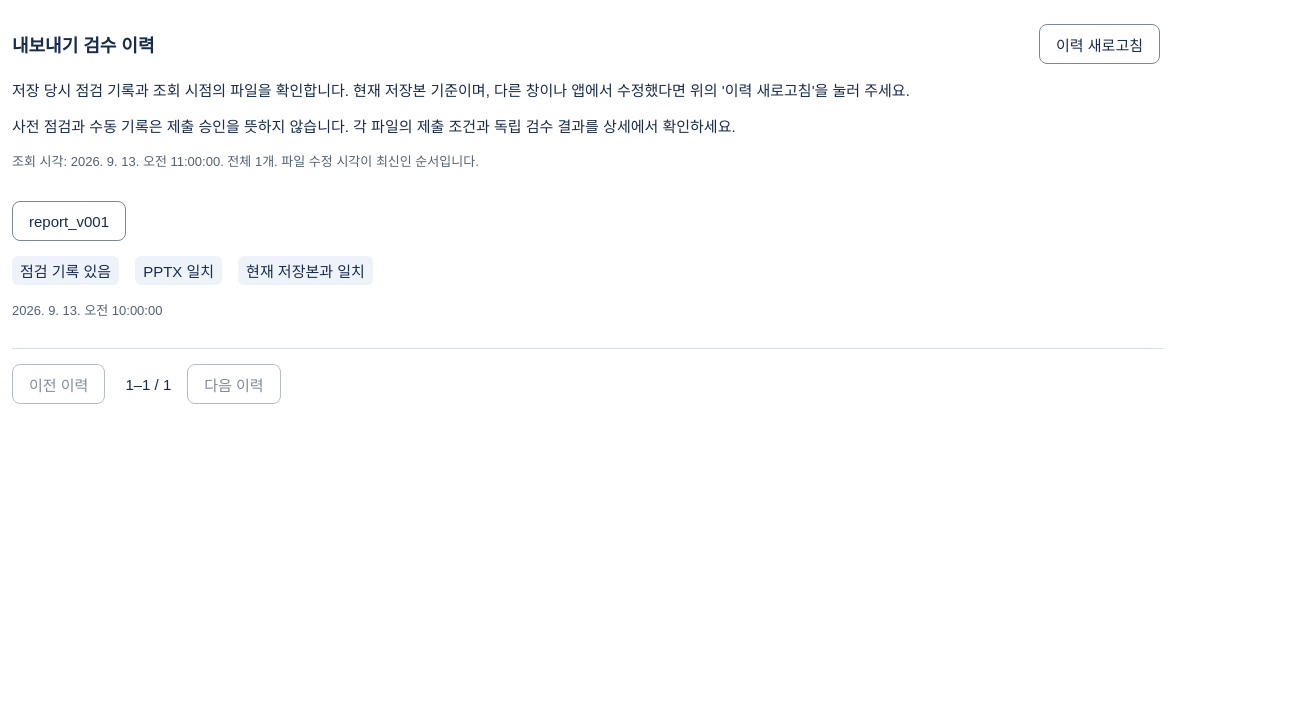
clears previous matches while refreshing and keeps refresh failures visible
Click the button with aria-label "report_v001 상세" at (69, 221), box [12,201,126,241]
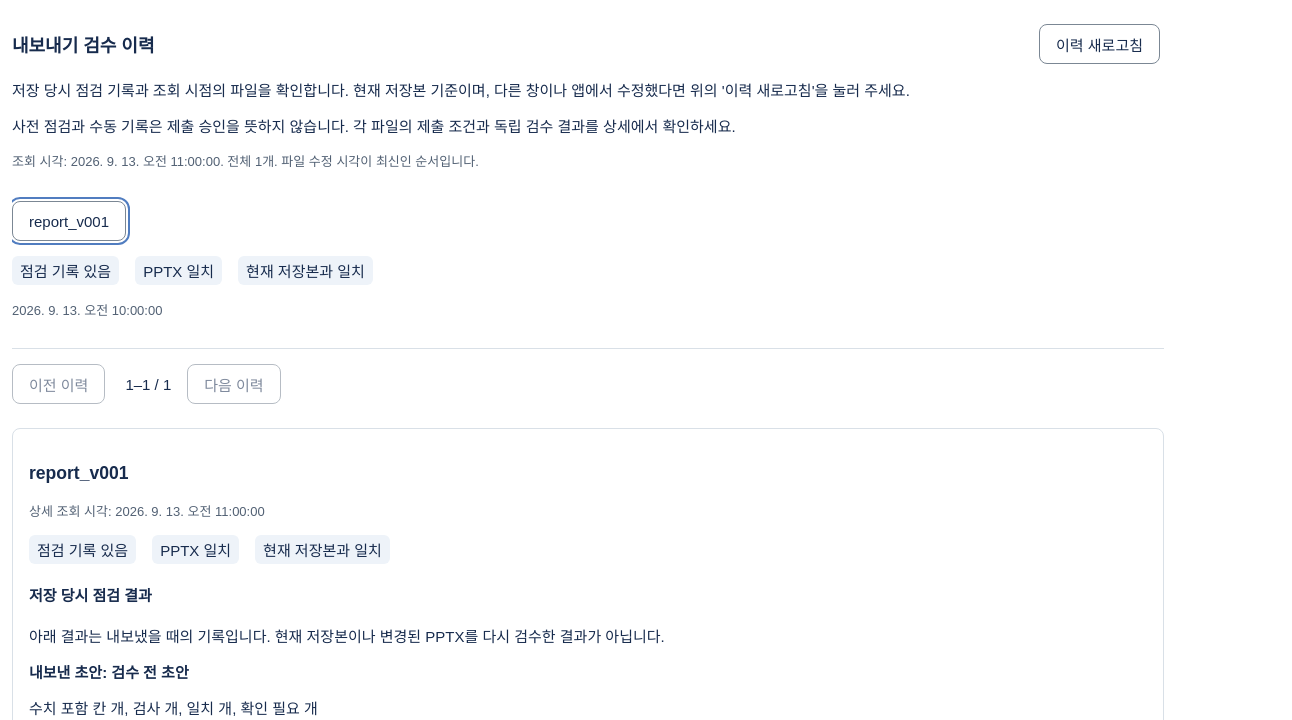
Click the button "이력 새로고침" at (1100, 44), box [1039,24,1160,64]
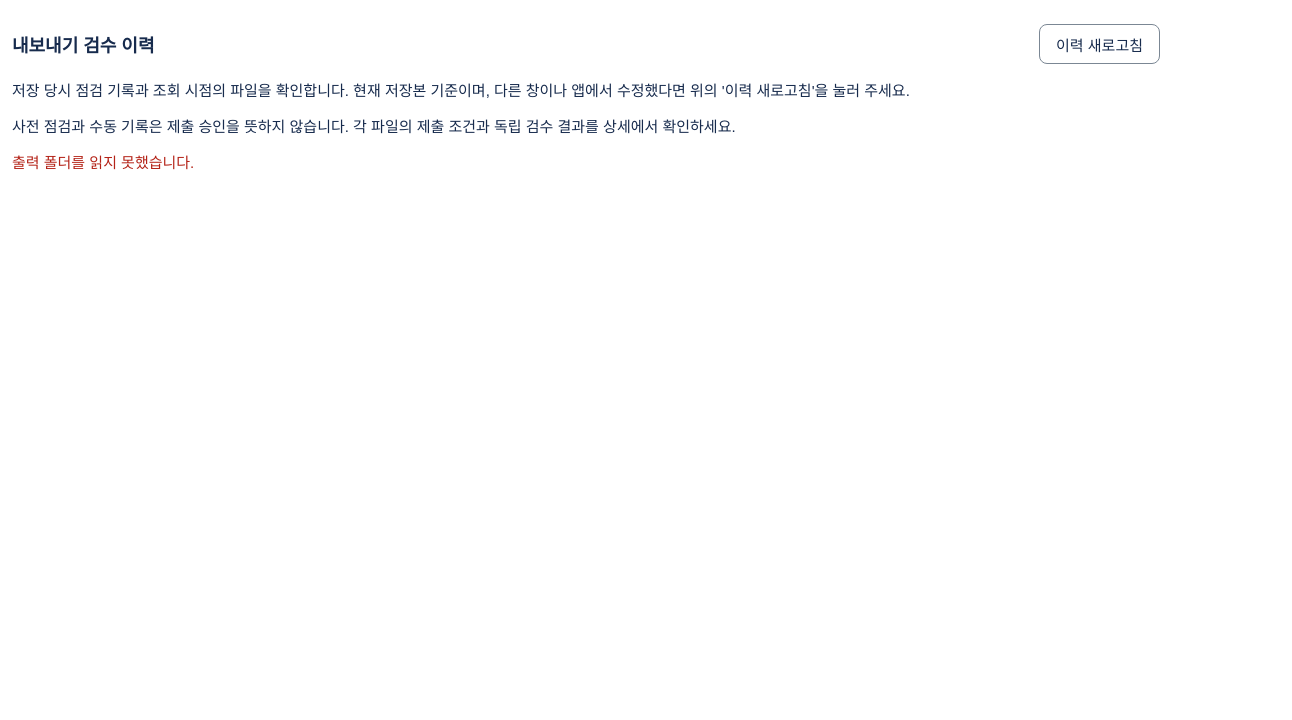
Now the text "현재 저장본과 일치" is gone
Now the heading "저장 당시 점검 결과" is gone
Now the message reads "출력 폴더를 읽지 못했습니다.", box [12,154,194,171]
